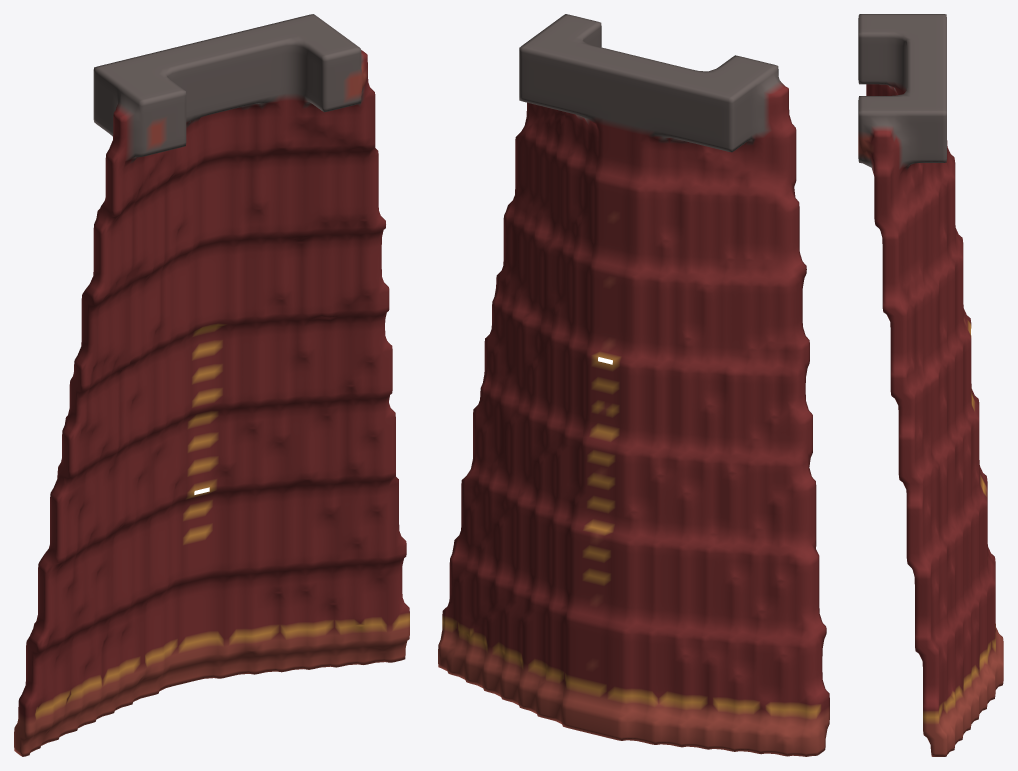
File: plate_masterwork_cloak.glb
3 views of the same model, side by side, from view 1: azimuth 30°, elevation 25°; view 2: azimuth 150°, elevation 25°; view 3: azimuth 270°, elevation 25° (orthographic). The views are drawn at different scales.
Parts seen in each view (by area): view 1: plate_masterwork_cloak; view 2: plate_masterwork_cloak; view 3: plate_masterwork_cloak.
Part boxes in pixels (x1=…): plate_masterwork_cloak: x1=14, y1=14, x2=409, y2=756; plate_masterwork_cloak: x1=438, y1=14, x2=829, y2=756; plate_masterwork_cloak: x1=858, y1=14, x2=1003, y2=756.
Bounding box in the file's own units: 0.612 × 0.996 × 0.216.
